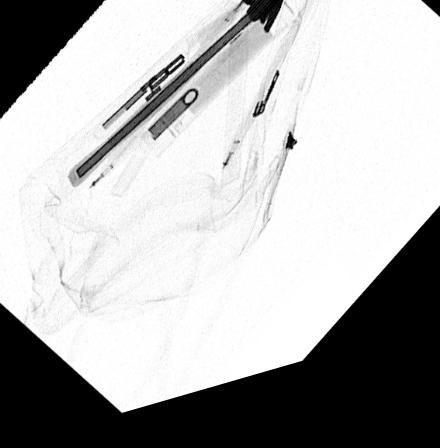Hammer: (66, 0, 283, 193)
